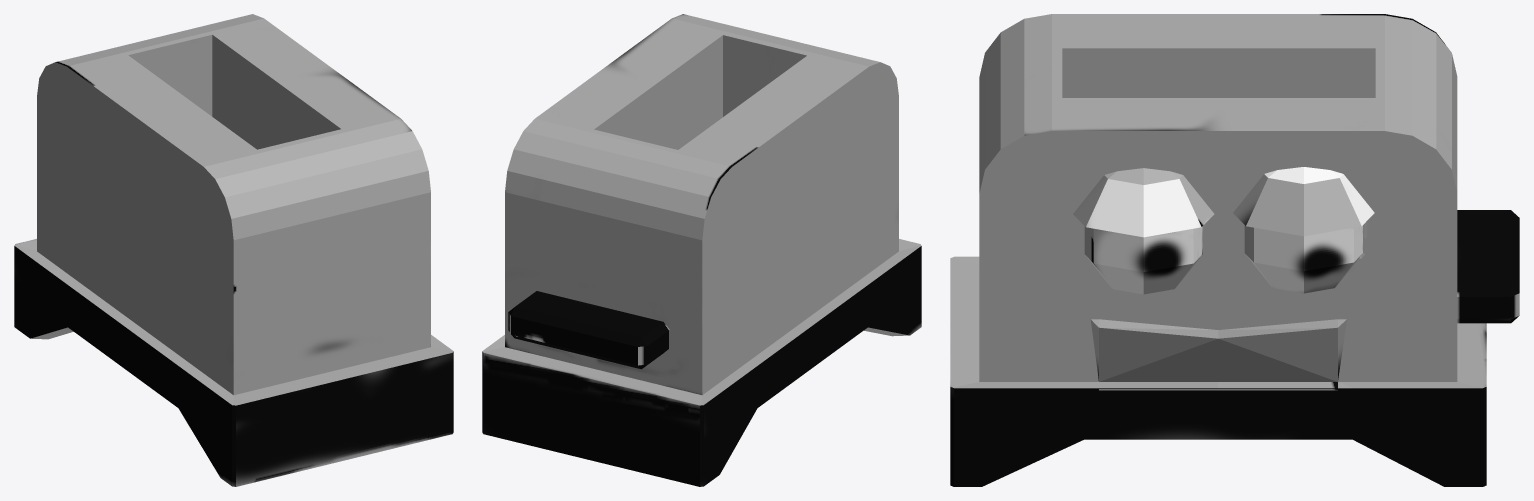
The model's file is toaster.fbx.
3 renders of one model, left to right at view 1: azimuth 30°, elevation 25°; view 2: azimuth 150°, elevation 25°; view 3: azimuth 270°, elevation 25°, orthographic. The views are drawn at different scales.
Parts seen in each view (by area): view 1: toaster; view 2: toaster; view 3: toaster.
Part boxes in pixels (x1,y1,x2,y2): toaster: (14,14,453,486); toaster: (482,14,921,486); toaster: (950,14,1519,486).
Size of the model in its own units: 0.5478 by 0.6035 by 0.8929.
1 material, 1 textured.
